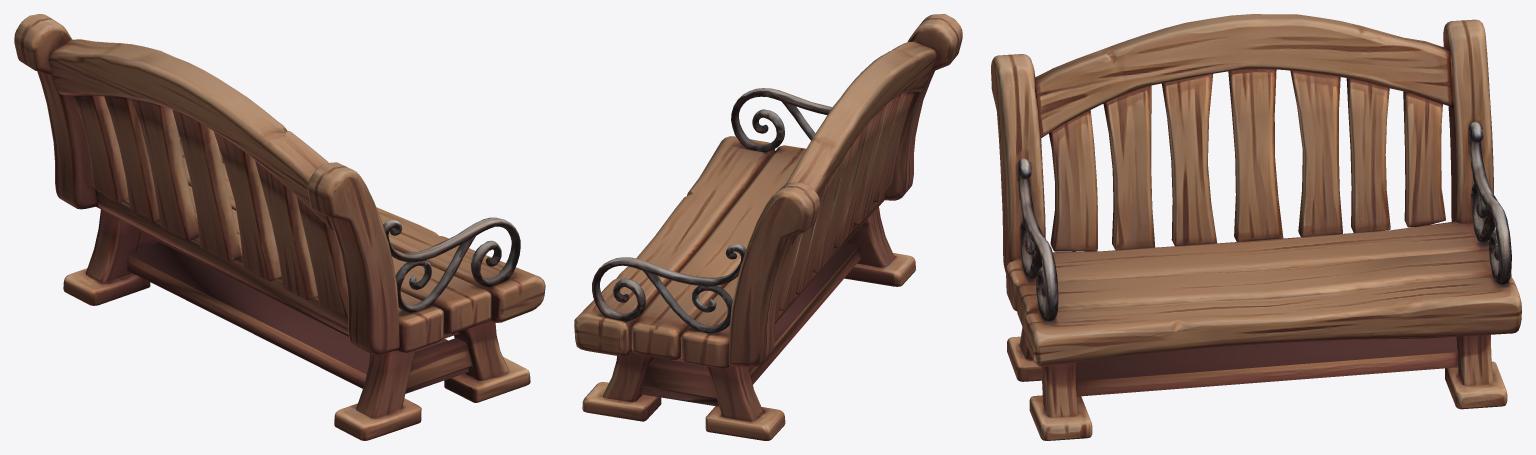
3 views of the same model, side by side, from view 1: azimuth 30°, elevation 25°; view 2: azimuth 150°, elevation 25°; view 3: azimuth 270°, elevation 25° (orthographic). The views are drawn at different scales.
Parts seen in each view (by area): view 1: tripo_node_c34cdb1b; view 2: tripo_node_c34cdb1b; view 3: tripo_node_c34cdb1b.
Boxes of the visible parts, x1,y1,x2,y2 form: tripo_node_c34cdb1b: (14,14,545,440); tripo_node_c34cdb1b: (574,14,962,440); tripo_node_c34cdb1b: (991,14,1521,440).
Size of the model in its own units: 0.6851 by 0.6343 by 0.9995.
Materials: 1 (1 with a texture image).
